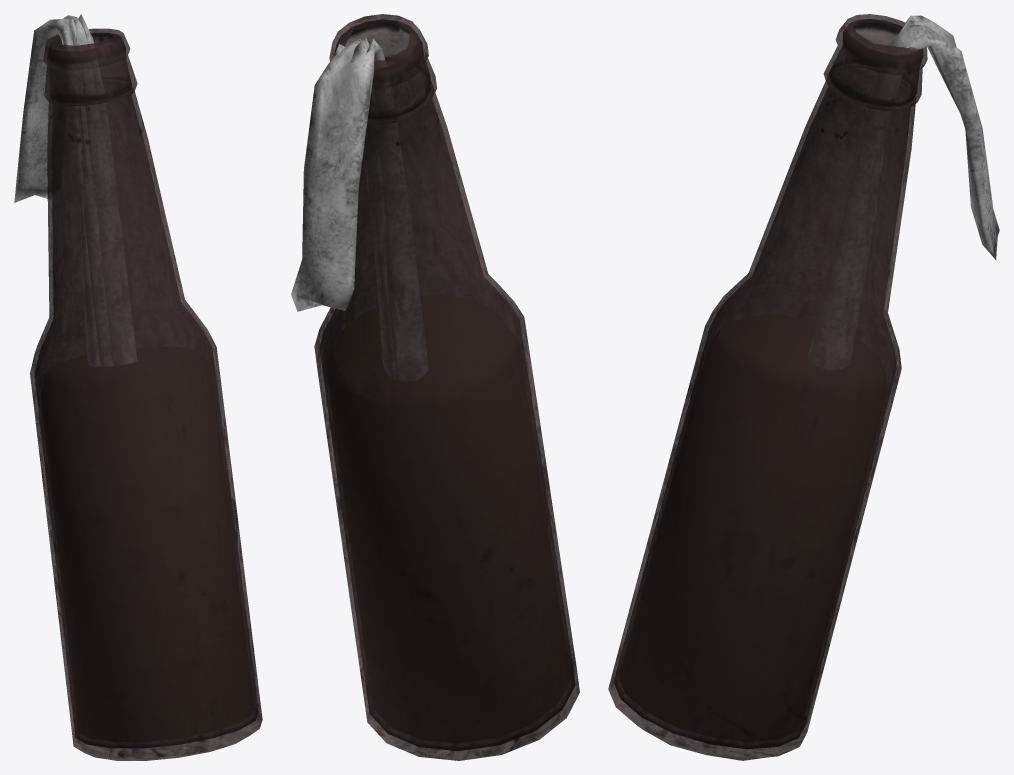
Rendered from molo_hi.glb.
3 renders of one model, left to right at view 1: azimuth 30°, elevation 25°; view 2: azimuth 150°, elevation 25°; view 3: azimuth 270°, elevation 25°, orthographic. The views are drawn at different scales.
Visible parts, largest first — view 1: Bottle, Liquid, Fabric; view 2: Bottle, Liquid, Fabric; view 3: Bottle, Liquid, Fabric.
Boxes of the visible parts, x1,y1,x2,y2 form: Bottle: (30, 28, 262, 760); Liquid: (41, 347, 253, 741); Fabric: (14, 14, 136, 366); Bottle: (314, 14, 579, 760); Liquid: (330, 295, 569, 742); Fabric: (291, 37, 428, 378); Bottle: (608, 14, 927, 760); Liquid: (619, 313, 886, 740); Fabric: (808, 15, 999, 369).
Bounding box in the file's own units: 0.0536 × 0.2069 × 0.1026.
3 materials, 2 textured.
